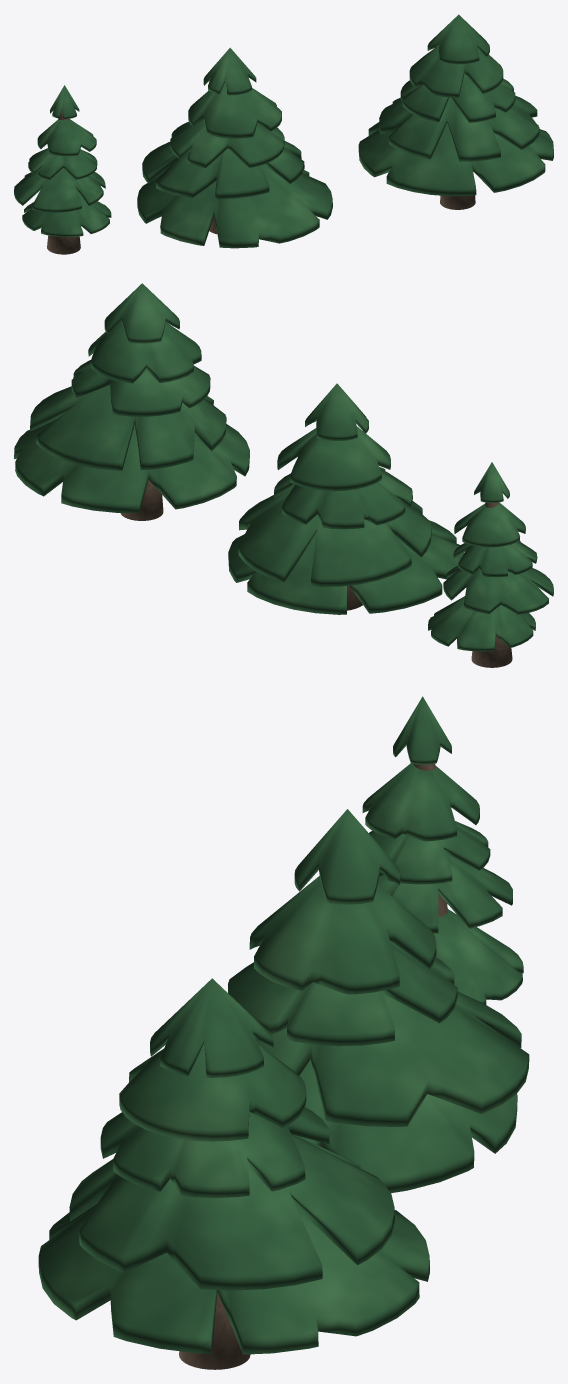
File: pine_tree.glb
The picture shows the model from 3 angles, top to bottom: view 1: azimuth 30°, elevation 25°; view 2: azimuth 150°, elevation 25°; view 3: azimuth 270°, elevation 25°; orthographic projection. The views are drawn at different scales.
Visible parts, largest first — view 1: pine_tree_v2_trunk, pine_tree_v1_trunk, pine_tree_v3_trunk; view 2: pine_tree_v1_trunk, pine_tree_v2_trunk, pine_tree_v3_trunk; view 3: pine_tree_v1_trunk, pine_tree_v2_trunk, pine_tree_v3_trunk.
Boxes of the visible parts, x1,y1,x2,y2 form: pine_tree_v2_trunk: (137, 47, 332, 248); pine_tree_v1_trunk: (358, 14, 553, 209); pine_tree_v3_trunk: (14, 85, 111, 254); pine_tree_v1_trunk: (14, 283, 249, 520); pine_tree_v2_trunk: (228, 383, 464, 614); pine_tree_v3_trunk: (428, 462, 553, 667); pine_tree_v1_trunk: (38, 978, 429, 1369); pine_tree_v2_trunk: (228, 809, 529, 1193); pine_tree_v3_trunk: (362, 696, 523, 1004).
Size of the model in its own units: 15.29 by 5.81 by 6.86.
2 materials, 2 textured.
